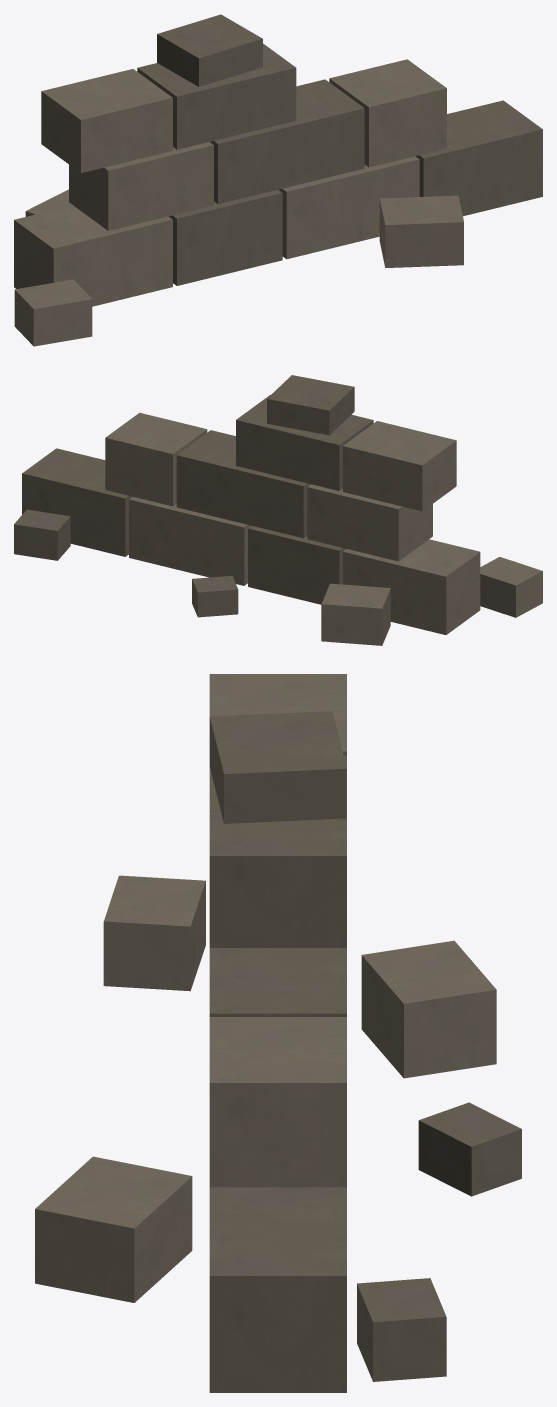
Rendered from rubble_wall_01.glb.
3 views of the same model, one above another, from view 1: azimuth 30°, elevation 25°; view 2: azimuth 150°, elevation 25°; view 3: azimuth 270°, elevation 25° (orthographic). The views are drawn at different scales.
Parts seen in each view (by area): view 1: rubble_wall_01; view 2: rubble_wall_01; view 3: rubble_wall_01.
Boxes of the visible parts, box(x1,y1,x2,y2) form: rubble_wall_01: box(14, 14, 542, 346); rubble_wall_01: box(14, 375, 542, 645); rubble_wall_01: box(35, 674, 521, 1392).
Size of the model in its own units: 3.91 by 1.55 by 1.78.
Materials: 2 (2 with a texture image).
